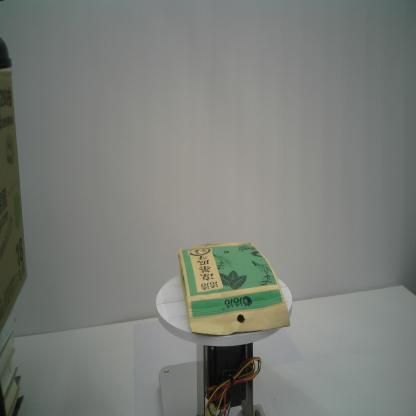Dried Food: (178, 241, 292, 337)
